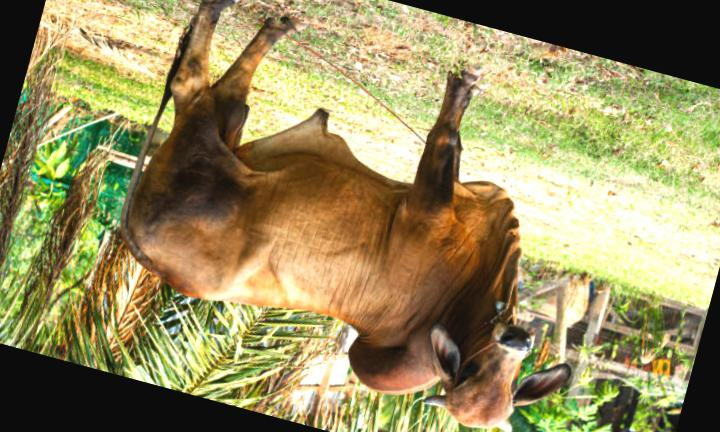Brahman: (120, 0, 569, 431)
